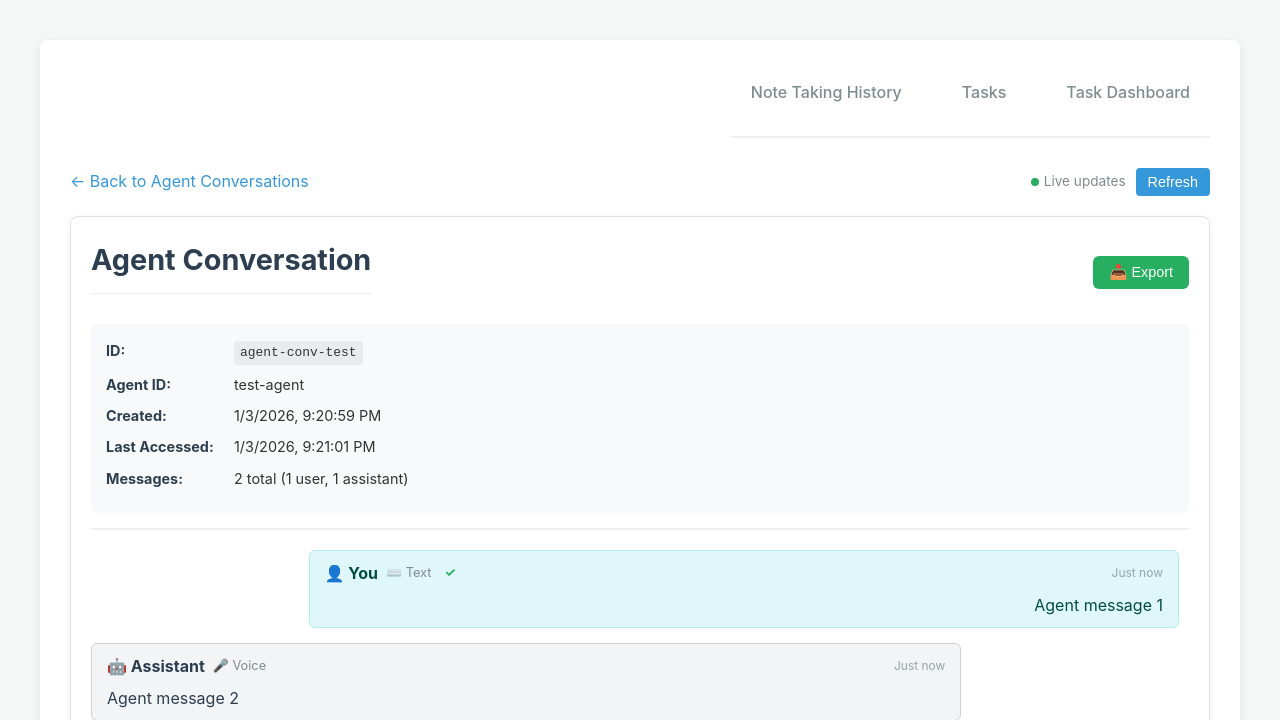
AgentConversationDetailView › Manual refresh › shows "Refreshing..." text during refresh
Click the button "Refresh".
click(1173, 182)  # box 1136,168 -> 1210,196
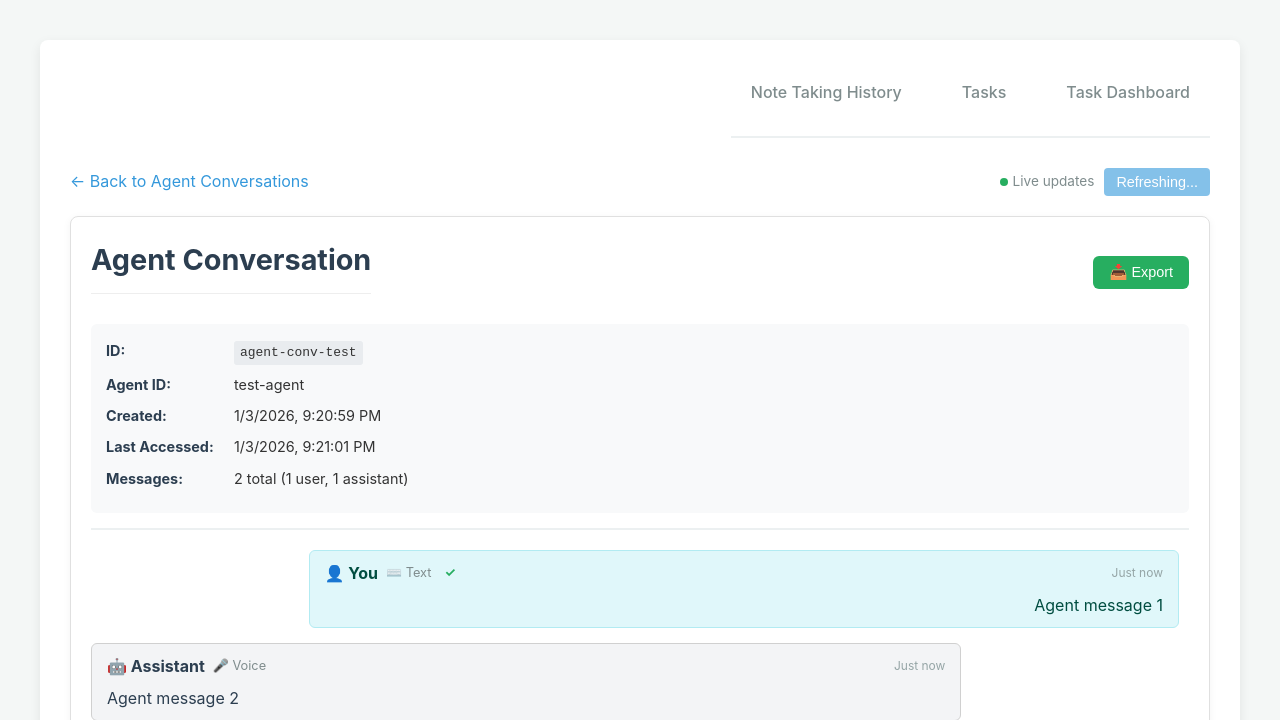
Expected: the button "Refreshing..." is shown, 1104,168 -> 1210,196
